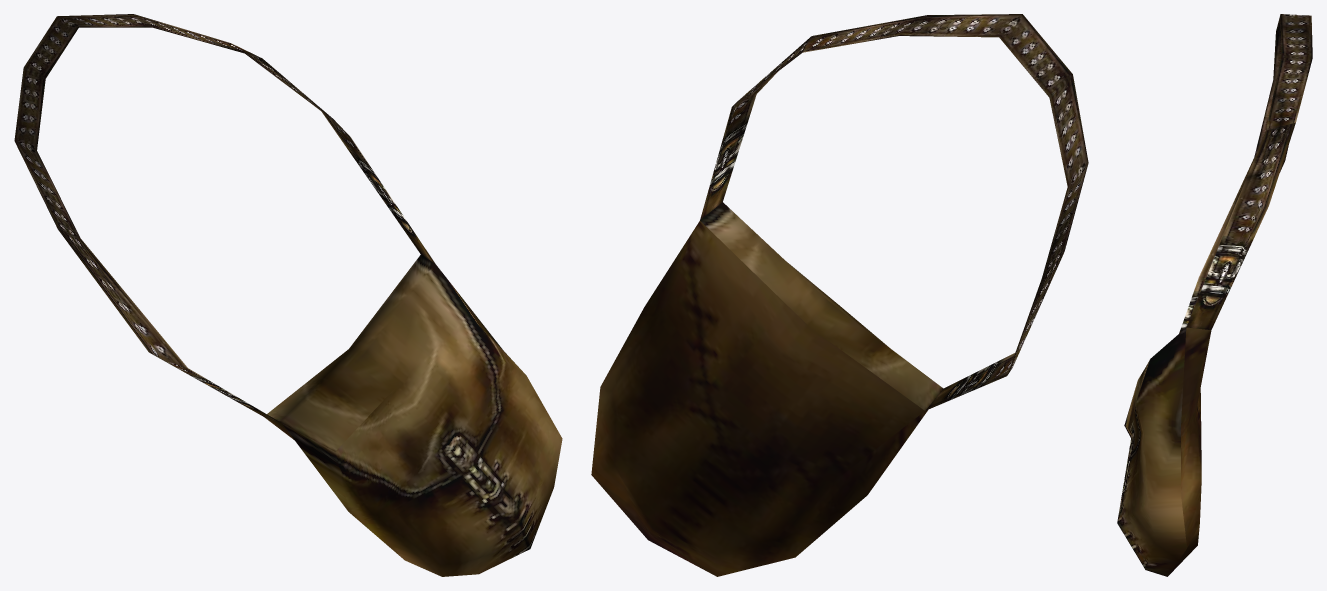
File: STATIC_TORBAMAX.glb
3 views of the same model, side by side, from view 1: azimuth 30°, elevation 25°; view 2: azimuth 150°, elevation 25°; view 3: azimuth 270°, elevation 25° (orthographic). The views are drawn at different scales.
Visible parts, largest first — view 1: Mesh; view 2: Mesh; view 3: Mesh.
Part boxes in pixels (x1,y1,x2,y2): Mesh: (14, 14, 562, 576); Mesh: (591, 14, 1088, 576); Mesh: (1117, 14, 1312, 576).
Bounding box in the file's own units: 0.6324 × 0.7662 × 0.311.
Materials: 1 (1 with a texture image).
